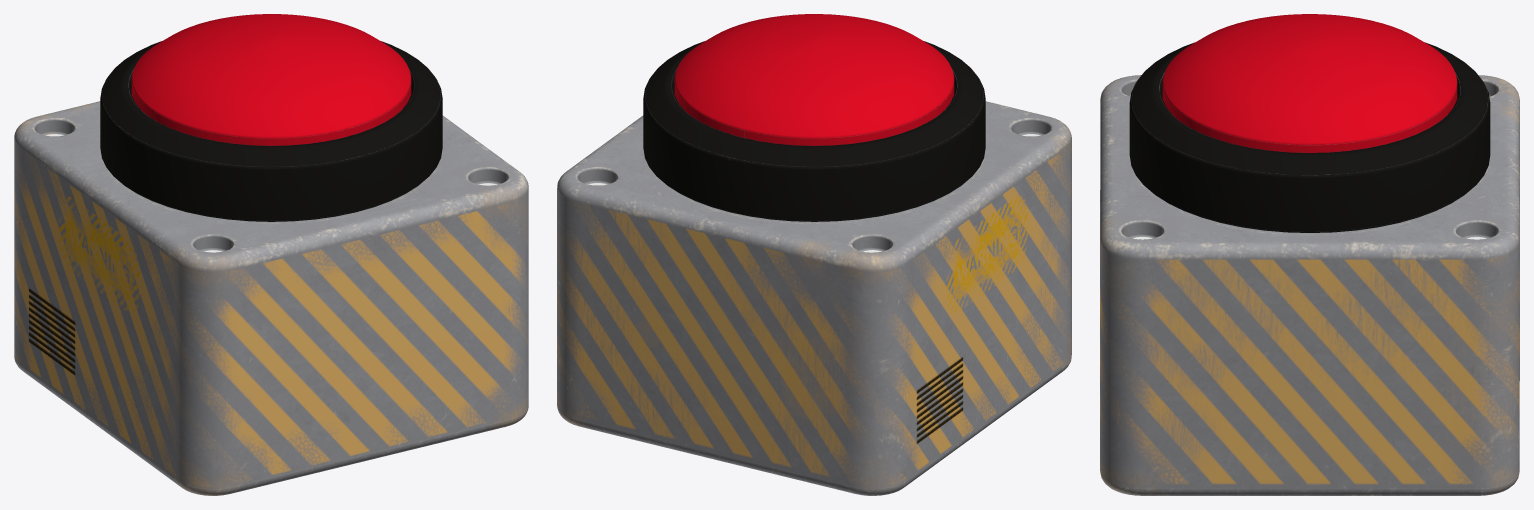
Rendered from SM_Curved_Pushbutton_big.fbx.
3 renders of one model, left to right at view 1: azimuth 30°, elevation 25°; view 2: azimuth 150°, elevation 25°; view 3: azimuth 270°, elevation 25°, orthographic. The views are drawn at different scales.
Visible parts, largest first — view 1: SM_Curved_Pushbutton_big; view 2: SM_Curved_Pushbutton_big; view 3: SM_Curved_Pushbutton_big.
Part boxes in pixels (x1=…): SM_Curved_Pushbutton_big: x1=14, y1=14, x2=528, y2=495; SM_Curved_Pushbutton_big: x1=557, y1=14, x2=1071, y2=495; SM_Curved_Pushbutton_big: x1=1100, y1=14, x2=1519, y2=495.
Size of the model in its own units: 15 by 14.56 by 15.
